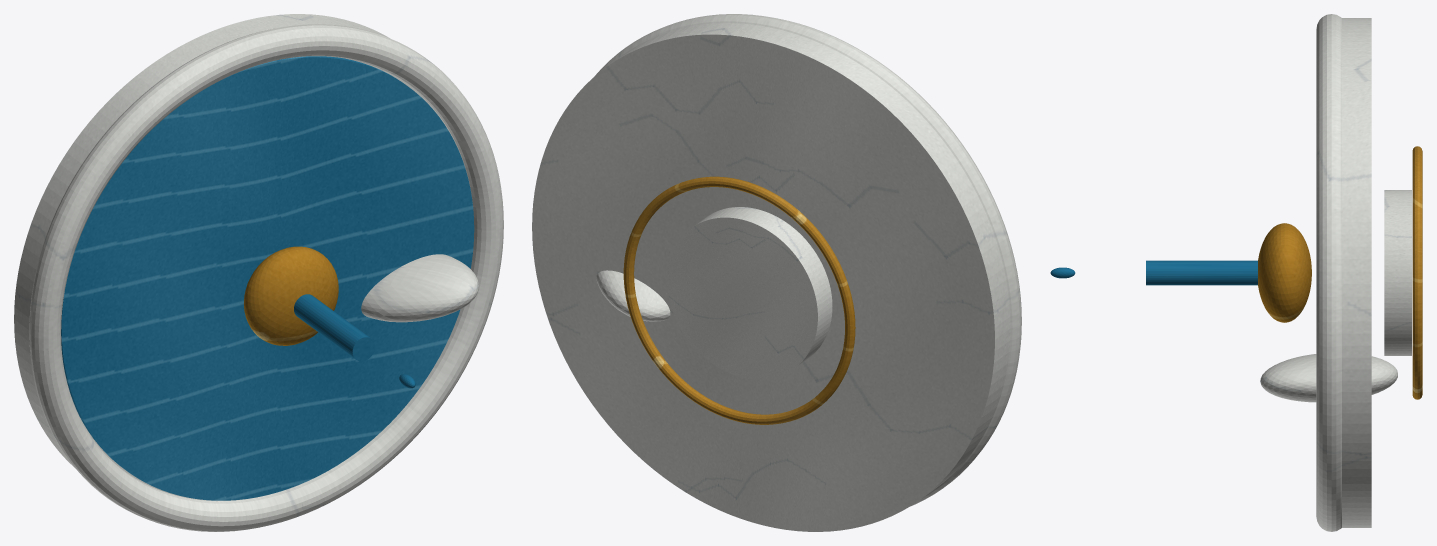
The model's file is Royal_India_Lotus_Fountain.glb.
3 views of the same model, side by side, from view 1: azimuth 30°, elevation 25°; view 2: azimuth 150°, elevation 25°; view 3: azimuth 270°, elevation 25° (orthographic). The views are drawn at different scales.
Visible parts, largest first — view 1: Water surface, Marble basin rim, Lower lotus basin, Golden lotus heart, Sculpted lotus petal, Central water jet; view 2: Lower lotus basin, Carved marble pedestal, Marble basin rim, Gold inlay ring, Sculpted lotus petal; view 3: Lower lotus basin, Marble basin rim, Carved marble pedestal, Golden lotus heart, Central water jet, Sculpted lotus petal, Gold inlay ring.
Boxes of the visible parts, bbox=[...] form: Water surface: bbox=[61, 56, 474, 500]; Marble basin rim: bbox=[29, 24, 503, 531]; Lower lotus basin: bbox=[14, 14, 451, 498]; Golden lotus heart: bbox=[244, 246, 338, 345]; Sculpted lotus petal: bbox=[361, 254, 478, 322]; Central water jet: bbox=[294, 294, 375, 361]; Lower lotus basin: bbox=[532, 23, 1010, 531]; Carved marble pedestal: bbox=[667, 207, 832, 379]; Marble basin rim: bbox=[594, 14, 1021, 505]; Gold inlay ring: bbox=[623, 176, 855, 424]; Sculpted lotus petal: bbox=[596, 270, 670, 321]; Lower lotus basin: bbox=[1342, 18, 1371, 527]; Marble basin rim: bbox=[1316, 14, 1341, 531]; Carved marble pedestal: bbox=[1384, 190, 1411, 355]; Golden lotus heart: bbox=[1258, 223, 1311, 322]; Central water jet: bbox=[1146, 260, 1257, 285]; Sculpted lotus petal: bbox=[1260, 354, 1397, 402]; Gold inlay ring: bbox=[1412, 146, 1422, 399].
Bounding box in the file's own units: 1.87 × 1.87 × 1.34.
Materials: 3 (3 with a texture image).
